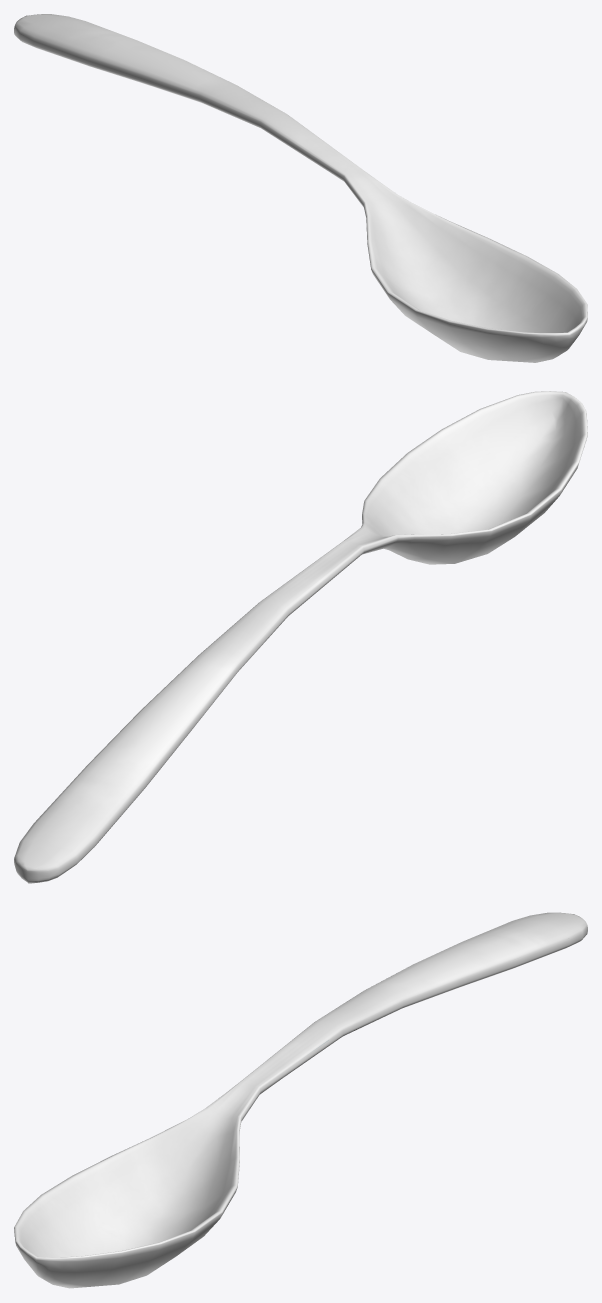
Rendered from Spoon.fbx.
The picture shows the model from 3 angles, top to bottom: view 1: azimuth 30°, elevation 25°; view 2: azimuth 150°, elevation 25°; view 3: azimuth 330°, elevation 25°; orthographic projection. The views are drawn at different scales.
Visible parts, largest first — view 1: Spoon; view 2: Spoon; view 3: Spoon.
Part boxes in pixels (x1,y1,x2,y2): Spoon: [14, 14, 587, 362]; Spoon: [14, 391, 587, 883]; Spoon: [14, 912, 587, 1288].
Bounding box in the file's own units: 4.48 × 2.61 × 28.17.
